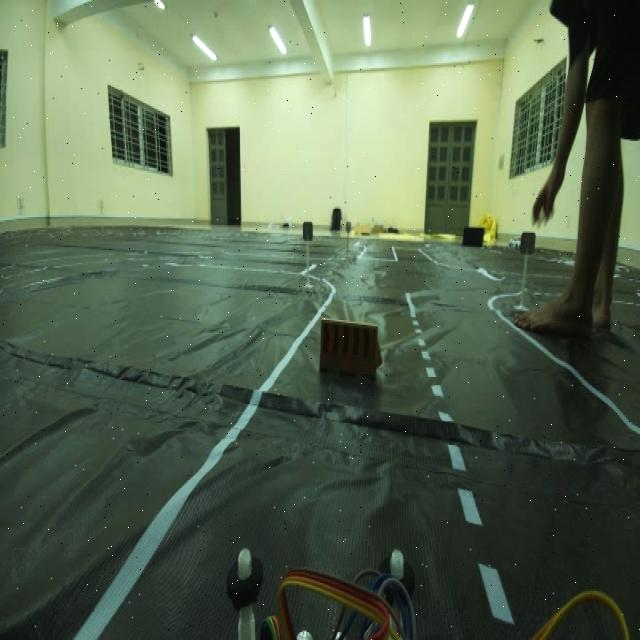roadblock: (311, 306, 389, 394)
